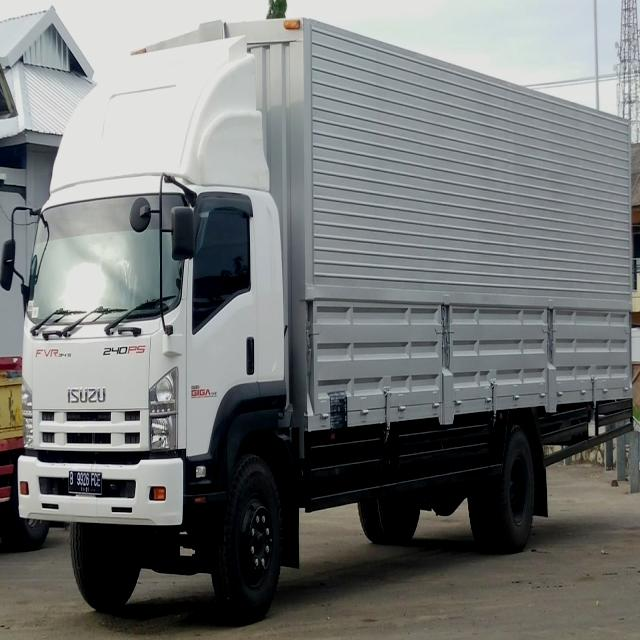truck: (10, 15, 640, 612)
